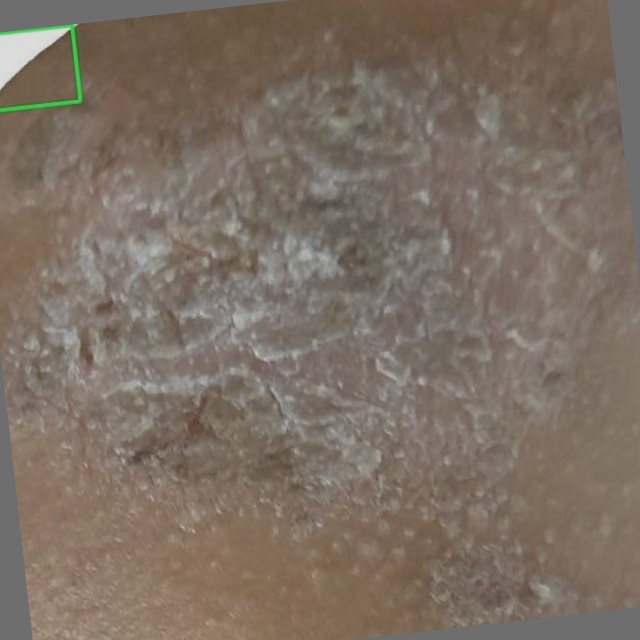Contact Dermatitis: (0, 25, 80, 110)
